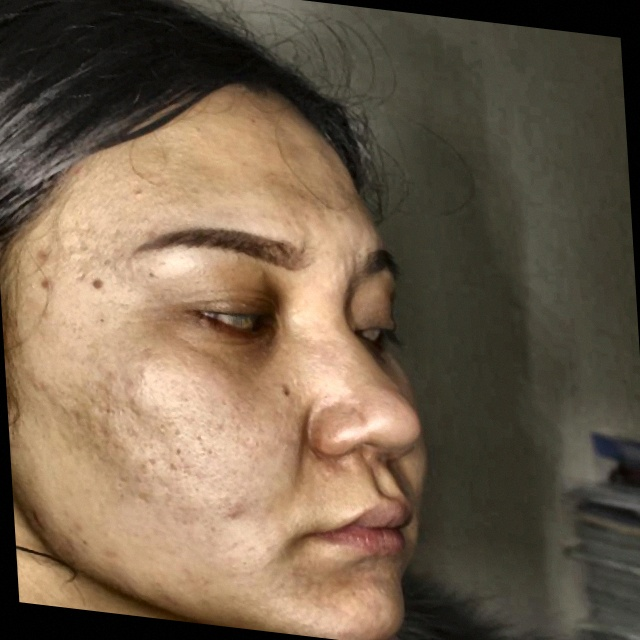comedone: (26, 240, 54, 265), (222, 502, 247, 523)
